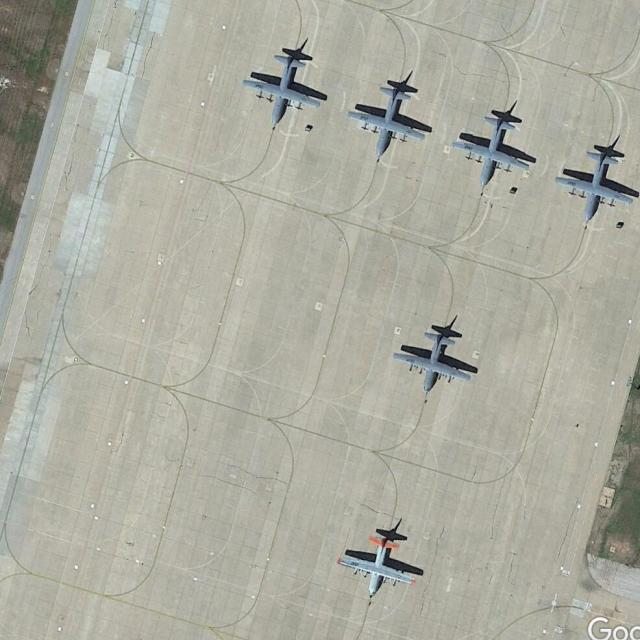fighter jet: (459, 102, 531, 194), (246, 46, 324, 127), (334, 526, 420, 599), (344, 84, 426, 160), (391, 323, 474, 392), (562, 142, 637, 218)
